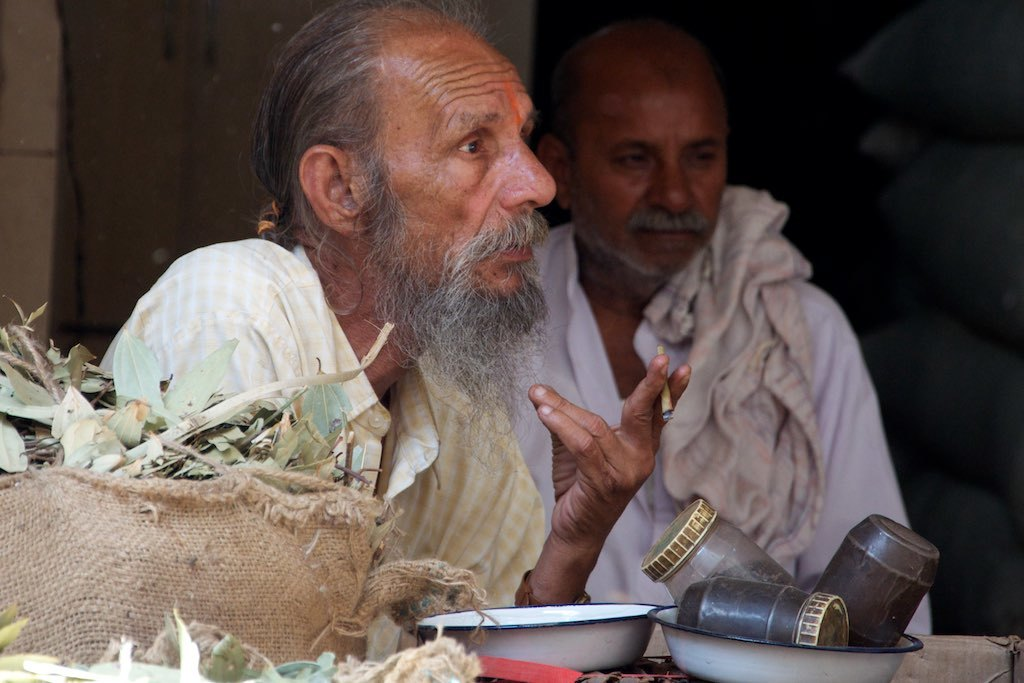Human_hand: (532, 359, 682, 579)
